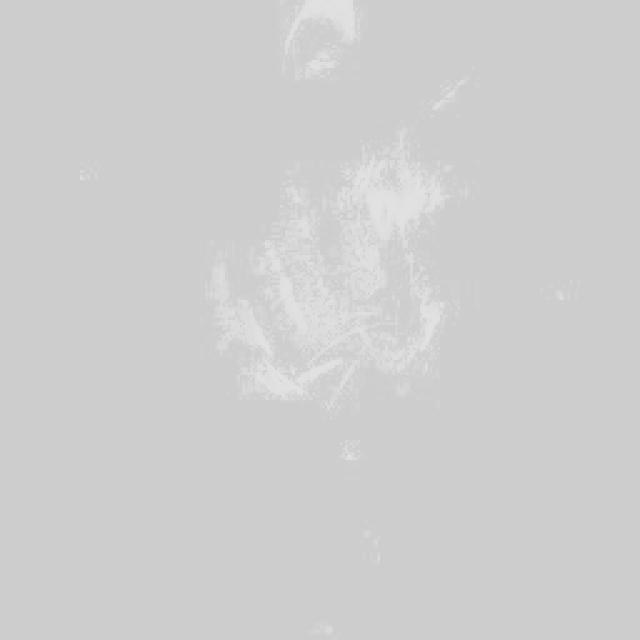cat: (216, 2, 458, 402)
